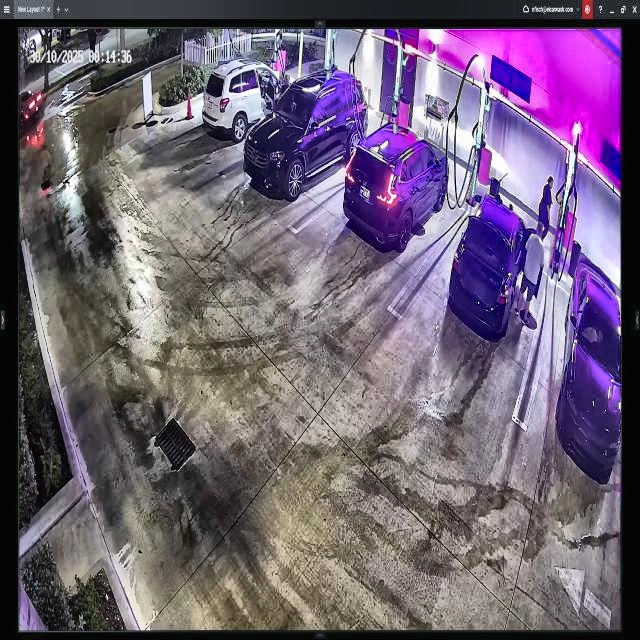Car: (242, 70, 368, 192), (344, 124, 449, 250), (456, 196, 528, 334), (204, 60, 300, 140)
